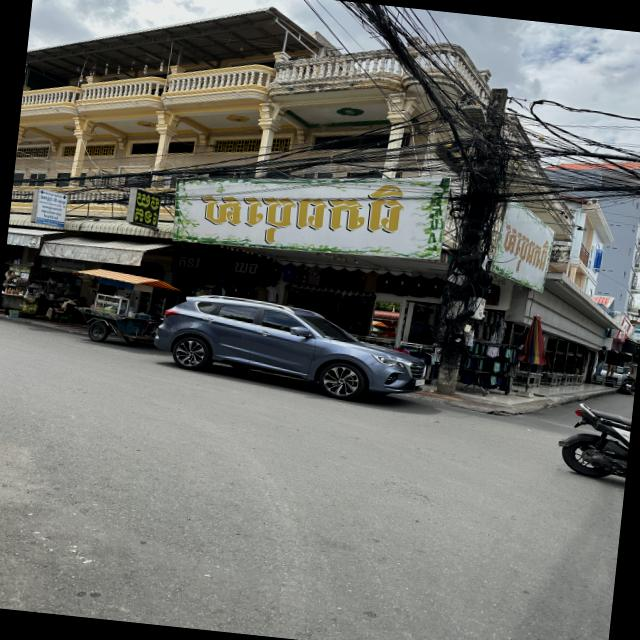Yolov11_80vkh: (195, 181, 412, 258), (131, 189, 165, 226)
